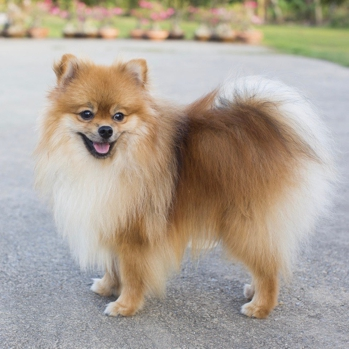pomeranian: (34, 48, 328, 314)
